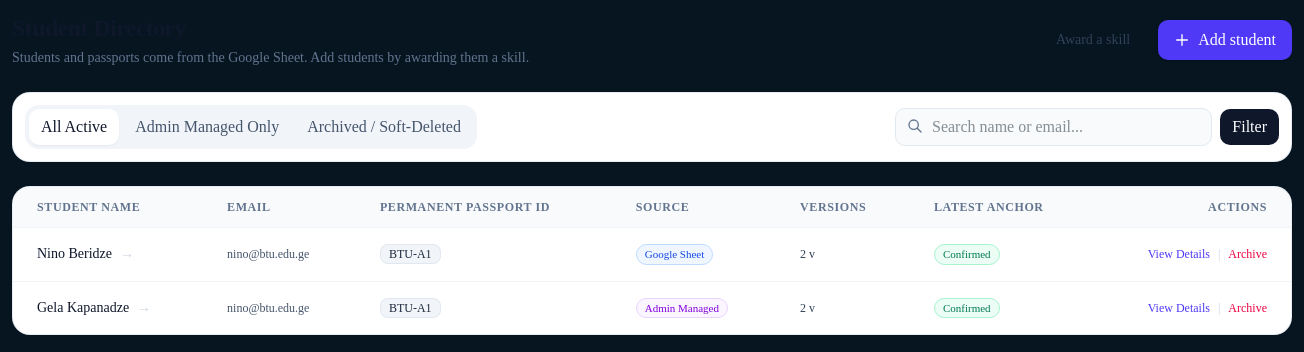
it: student directory › shows only admin managed students on that tab
The width and height of the screenshot is (1304, 352).
Expected: the link "Nino Beridze →" is shown, [37,246,134,261]
What coordinates should you click on to do the following:
click the button "Admin Managed Only"
I would click on:
 (207, 127)
Its box is [123,109,291,145].
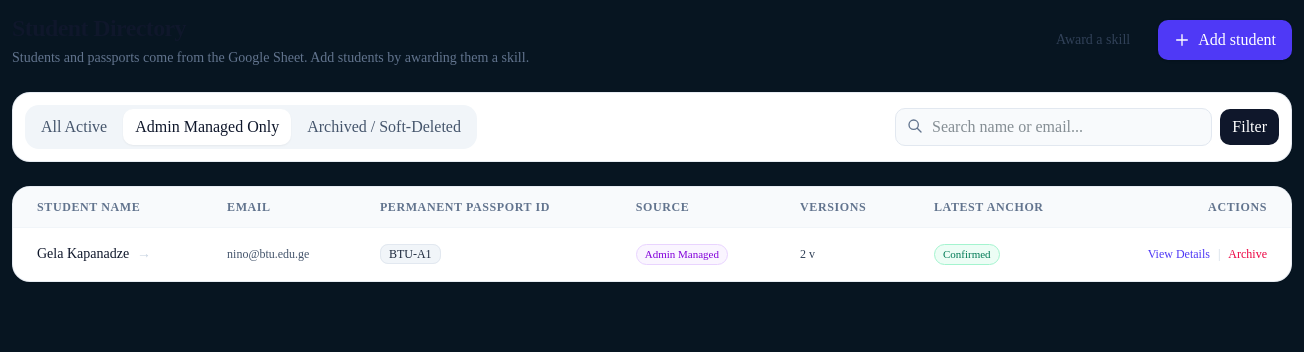
Expected: the link "Gela Kapanadze →" is shown, [37,246,151,261]
Expected: the link "Nino Beridze" is gone
